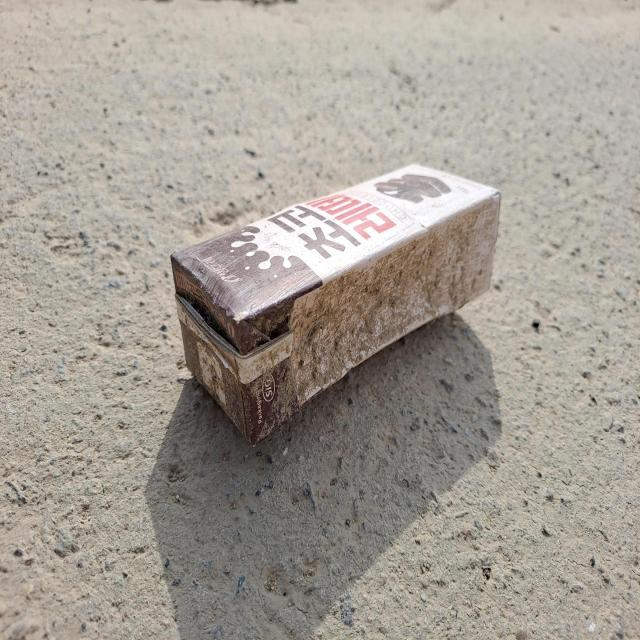paperpack: (170, 164, 501, 444)
